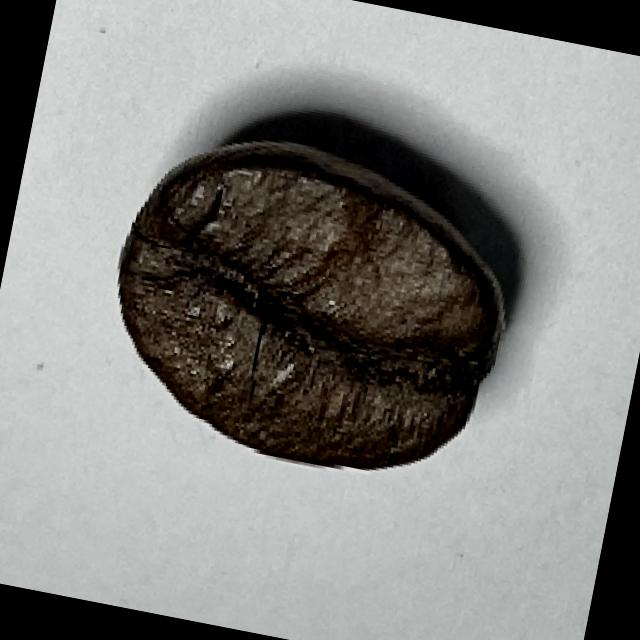bean: (83, 115, 530, 496)
